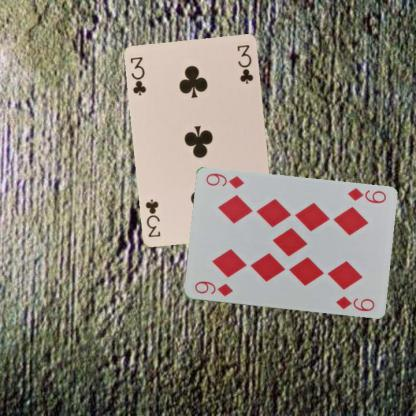3c: (128, 54, 148, 97)
9d: (191, 279, 234, 298), (345, 186, 387, 205)
